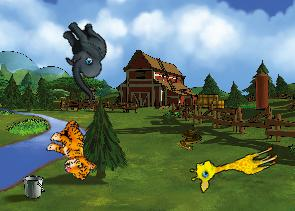elephant: (40, 13, 129, 102)
giraffe: (186, 134, 281, 195)
tiger: (39, 115, 109, 184)
